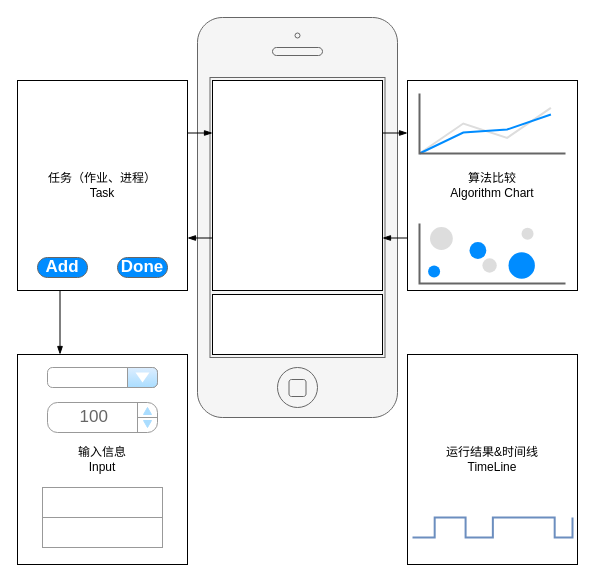
The diagram is 595 pixels wide and 582 high, and some of its shapes have lost their labels. The centre of each missing label's shape, as x and y in pixels:
Option 1: the point at 102,377
内容切片 Fragment: the point at 297,185
底部导航栏 Navigation Bar: the point at 297,324
